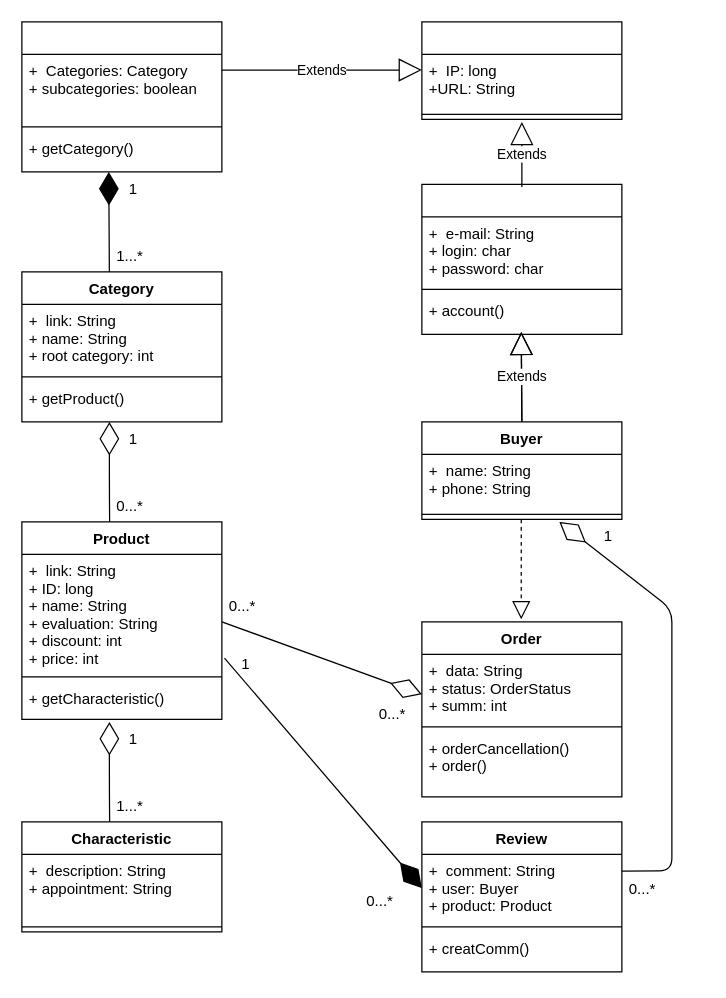
Some shapes in this 726 by 998 pixel diagram are drawn without their labels. Each missing label, with the box of its shape:
Catalog: (21, 21, 222, 172)
User: (421, 183, 622, 334)
Web-site: (421, 21, 622, 119)
